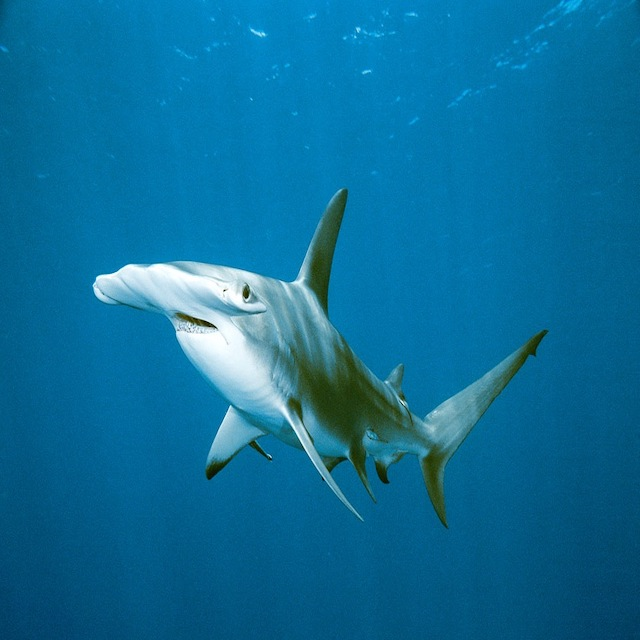hammerhead: (88, 185, 542, 537)
